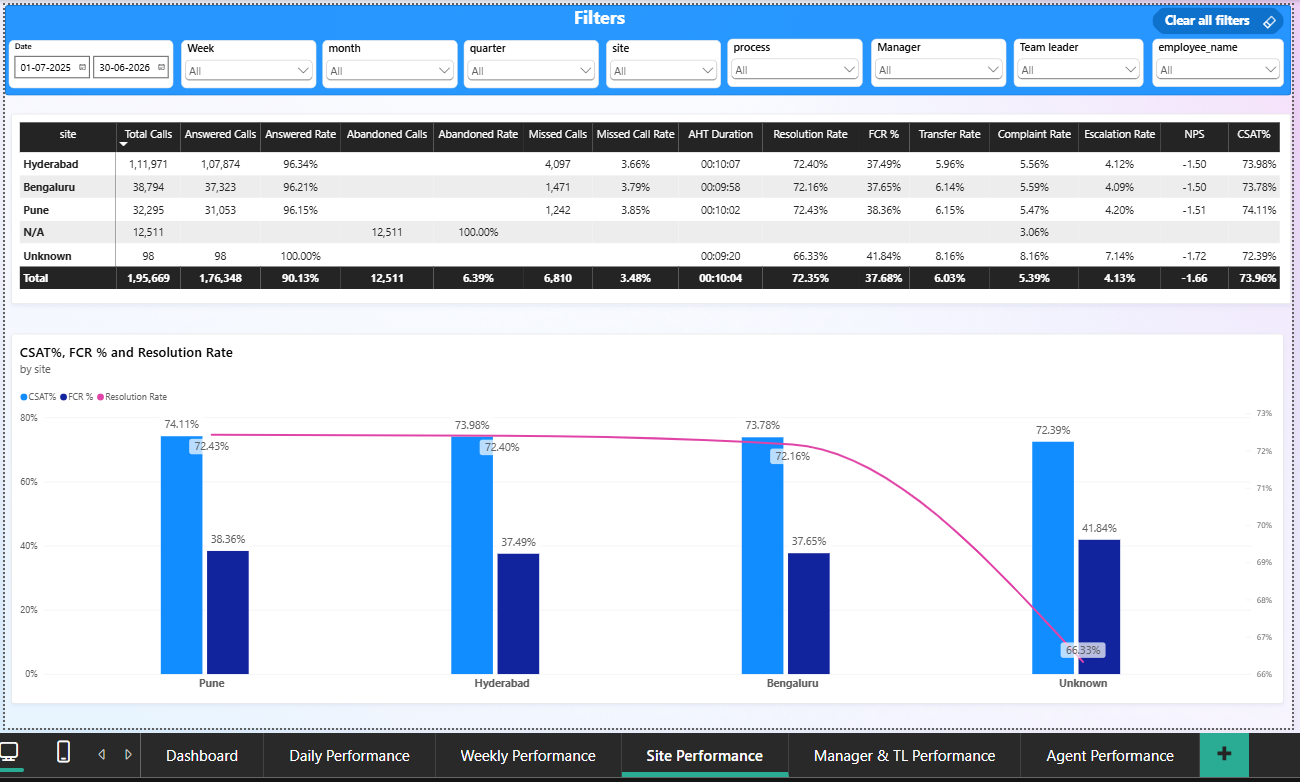

What the dashboard file says about the page in this screenshot:
{"tool":"powerbi","page":{"name":"Site Performance","canvas":[1920,1080],"ordinal":3},"visuals":[{"type":"shape","box":[0,0,1920,135],"z":0},{"type":"pivotTable","fields":{"Values":["fact_calls.Total Calls","fact_calls.Answered Calls","fact_calls.Answer Rate","fact_calls.Abandoned Calls","fact_calls.Abandoned Rate","fact_calls.Missed Calls","fact_calls.Missed Call Rate","fact_calls.AHT Duration","fact_calls.Resolution Rate","fact_calls.FCR %","fact_calls.Transfer Rate","fact_calls.Complaint Rate"],"Rows":["dim_employee.site"]},"box":[9.3,162.3,1910.7,283.6],"z":1000},{"type":"slicer","fields":{"Values":["calendar.Week"]},"box":[262.3,51.3,201.5,72.2],"z":2000},{"type":"slicer","fields":{"Values":["calendar.Date"]},"box":[5.7,51.3,245.2,72.2],"z":3000},{"type":"slicer","fields":{"Values":["calendar.month_year"]},"box":[473.3,51.3,201.5,72.2],"z":4000},{"type":"slicer","fields":{"Values":["calendar.quarter"]},"box":[684.4,51.3,201.5,72.2],"z":5000},{"type":"slicer","fields":{"Values":["dim_employee.site"]},"box":[897.3,51.3,171.1,72.2],"z":6000},{"type":"slicer","fields":{"Values":["dim_employee.process"]},"box":[1077.9,51.3,201.5,72.2],"z":7000},{"type":"slicer","fields":{"Values":["dim_employee.manager_name"]},"box":[1292.7,51.3,201.5,72.2],"z":8000},{"type":"slicer","fields":{"Values":["dim_employee.team_leader_name"]},"box":[1505.6,51.3,193.9,72.2],"z":9000},{"type":"textbox","box":[849.7,0,127.4,43.7],"z":10000},{"type":"slicer","fields":{"Values":["dim_employee.employee_name"]},"box":[1712.8,51.3,195.8,72.2],"z":11000},{"type":"actionButton","box":[1712.8,3.8,195.8,39.9],"z":12000},{"type":"lineClusteredColumnComboChart","fields":{"Category":["dim_employee.site"],"Y":["fact_calls.CSAT%","fact_calls.FCR %"],"Y2":["fact_calls.Resolution Rate"]},"box":[9.3,490.7,1899.5,552.3],"z":13000}]}

Visuals, with their boxes on the page's 1920x1080 design canvas (x1, y1, x2, y2). These are canvas units, not pixel positions in the 1300x782 screenshot, which may show the page scaled, cropped or inside an application window:
shape: 0 0 1920 135
pivotTable - fact_calls.Total Calls x fact_calls.Answered Calls: 9 162 1920 446
slicer - calendar.Week: 262 51 464 124
slicer - calendar.Date: 6 51 251 124
slicer - calendar.month_year: 473 51 675 124
slicer - calendar.quarter: 684 51 886 124
slicer - dim_employee.site: 897 51 1068 124
slicer - dim_employee.process: 1078 51 1279 124
slicer - dim_employee.manager_name: 1293 51 1494 124
slicer - dim_employee.team_leader_name: 1506 51 1700 124
textbox: 850 0 977 44
slicer - dim_employee.employee_name: 1713 51 1909 124
actionButton: 1713 4 1909 44
lineClusteredColumnComboChart - dim_employee.site x fact_calls.CSAT%: 9 491 1909 1043
